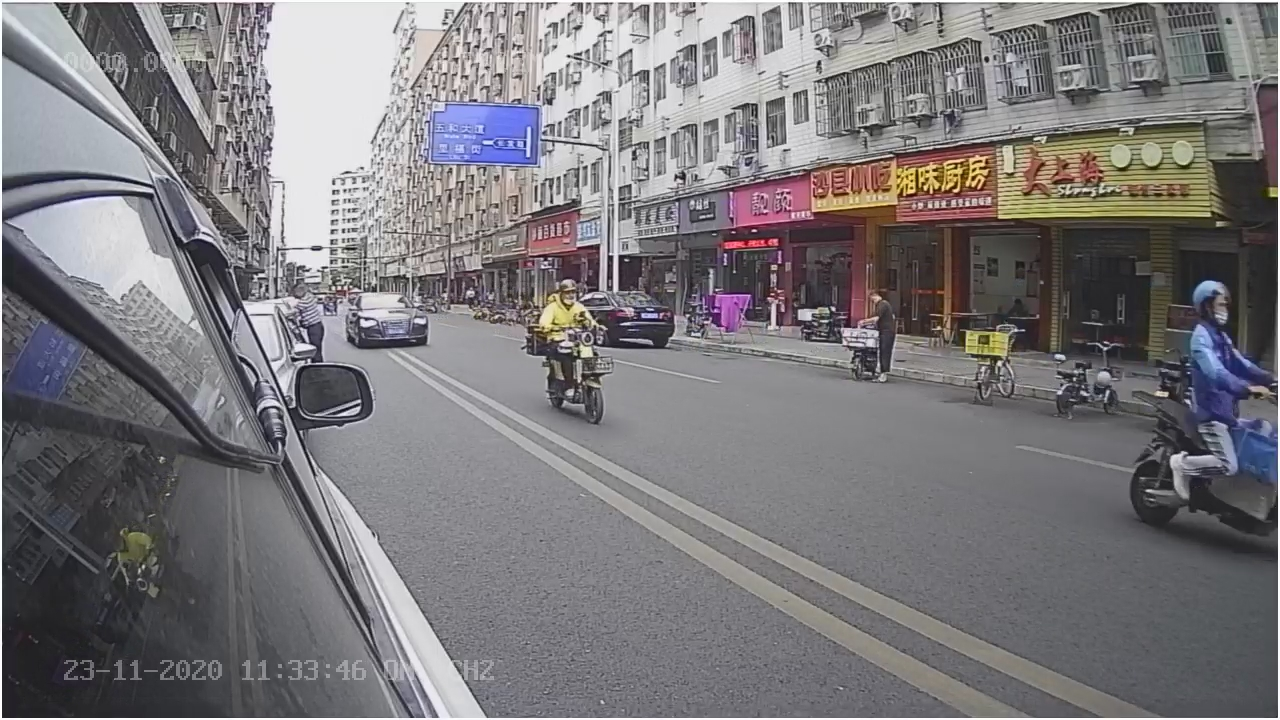person: (1184, 266, 1269, 404)
